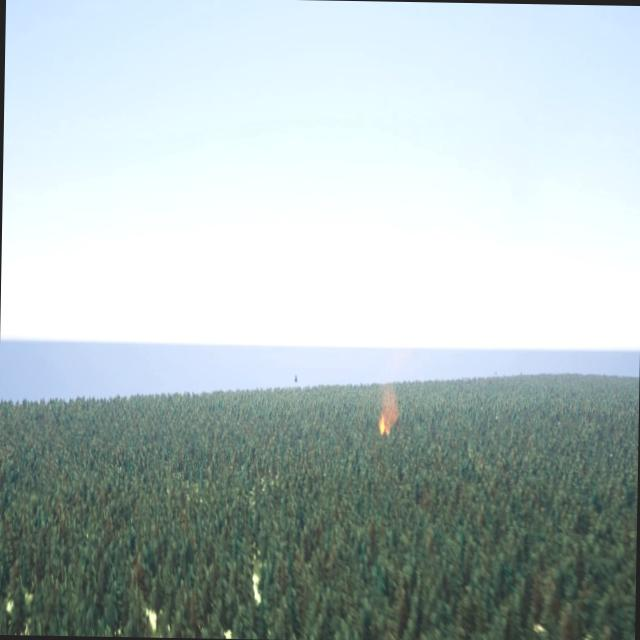fire: (376, 414, 391, 436)
smoke: (378, 384, 402, 422)
